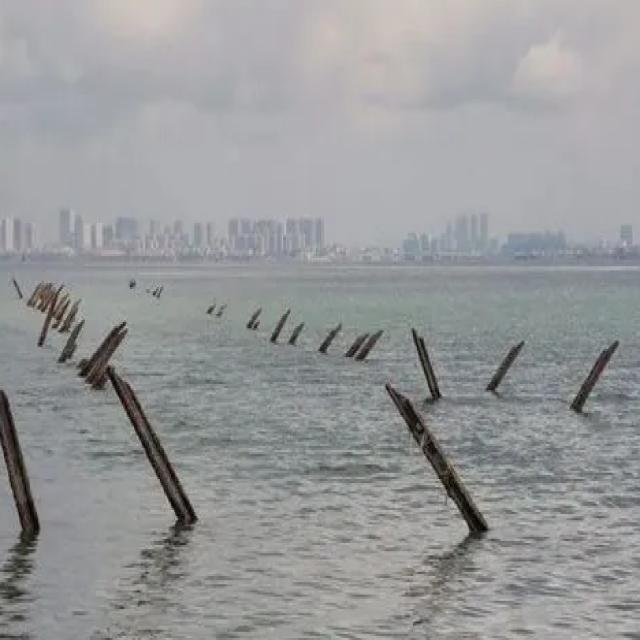buoy: (104, 358, 206, 541), (375, 383, 486, 547), (0, 372, 67, 547), (552, 326, 620, 401), (398, 314, 452, 406), (474, 327, 527, 403), (80, 325, 132, 392), (312, 319, 339, 359), (247, 296, 266, 337), (274, 308, 290, 343), (289, 320, 304, 347)
